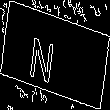N_N: (40, 26, 70, 84)
